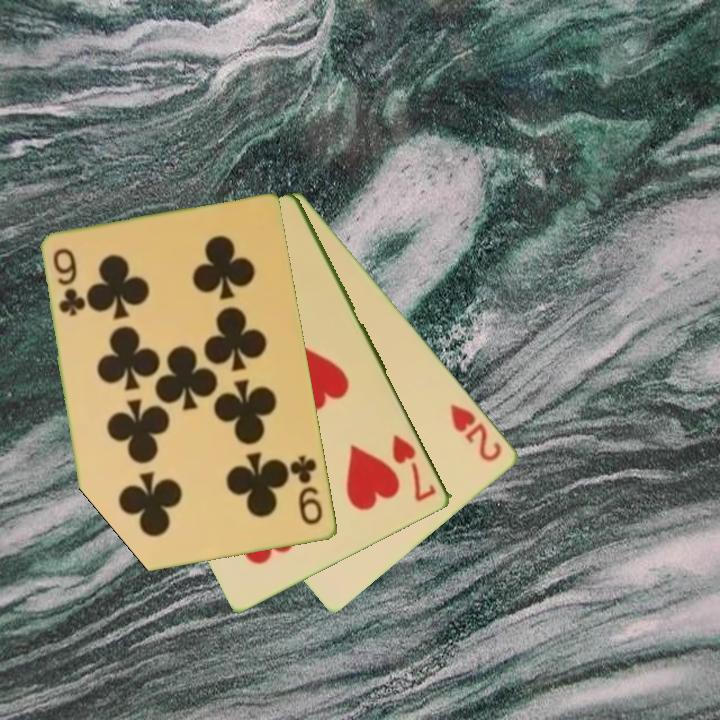2h: (447, 400, 506, 465)
7h: (389, 431, 440, 505)
9c: (287, 452, 326, 529), (50, 245, 86, 320)
